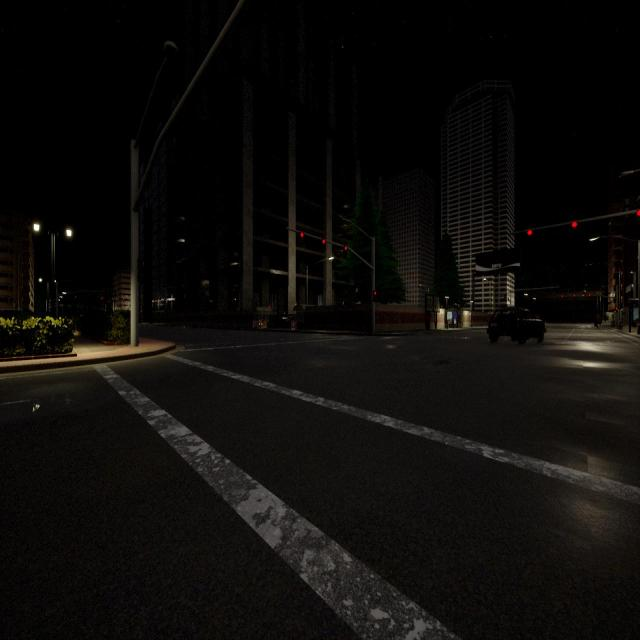Vehicle: (487, 308, 545, 343)
traffic_light: (137, 258, 144, 282), (321, 238, 326, 249), (300, 231, 304, 243), (572, 221, 578, 229), (527, 229, 533, 236), (373, 291, 377, 301), (636, 210, 640, 218), (344, 246, 347, 254), (140, 309, 142, 314), (101, 296, 103, 300), (561, 294, 563, 298), (616, 306, 618, 310), (123, 299, 125, 302), (573, 294, 575, 297), (112, 298, 114, 300), (588, 294, 590, 296)
